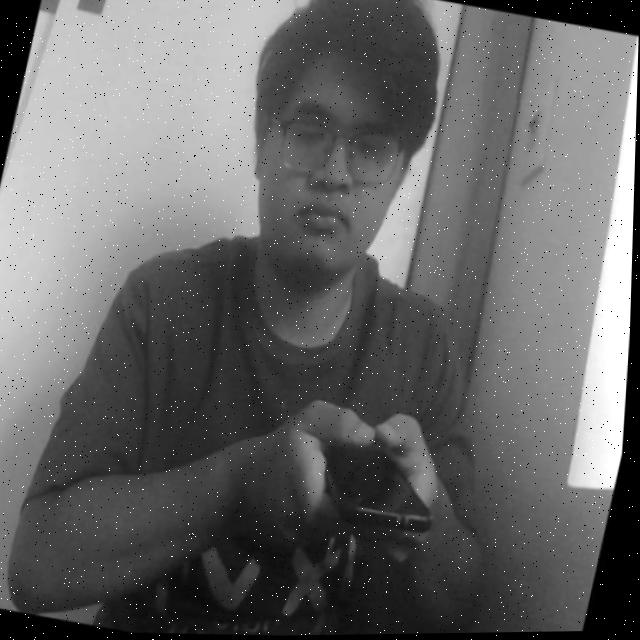phone: (283, 390, 471, 566)
